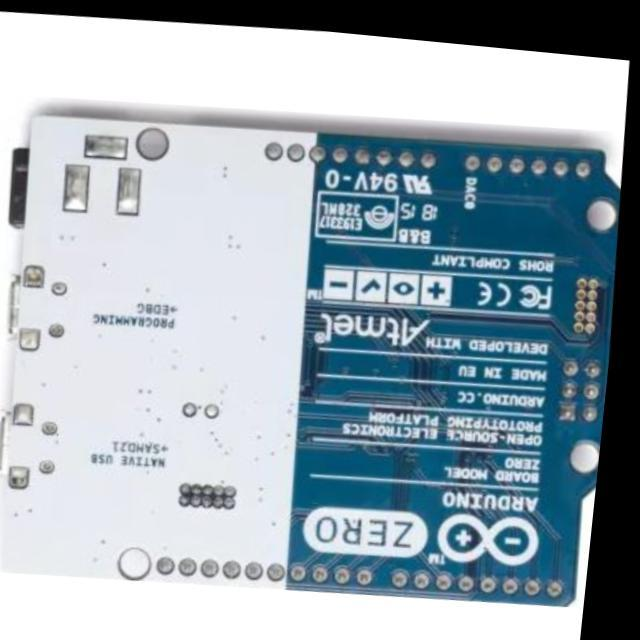Arduino-Zero: (1, 105, 620, 606)
